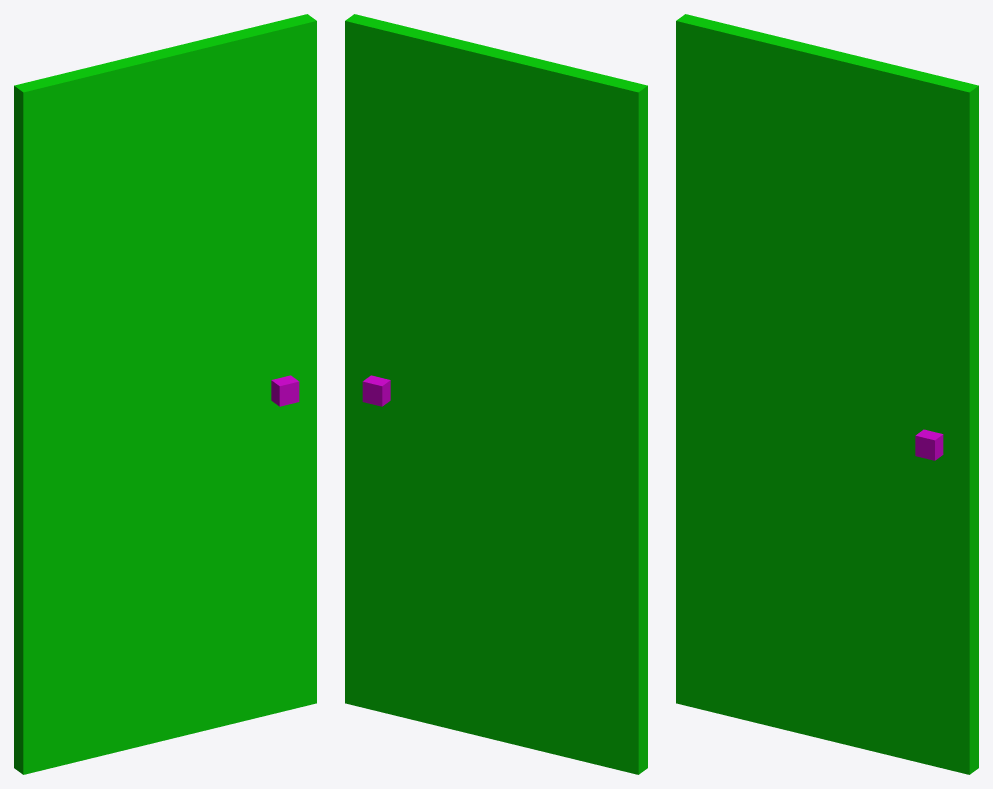
File: door_leaf.glb
The picture shows the model from 3 angles, left to right: view 1: azimuth 30°, elevation 25°; view 2: azimuth 150°, elevation 25°; view 3: azimuth 330°, elevation 25°; orthographic projection.
Visible parts, largest first — view 1: door_leaf; view 2: door_leaf; view 3: door_leaf.
Part boxes in pixels (box(x1,y1,x2,y2)): door_leaf: box(14, 14, 316, 774); door_leaf: box(345, 14, 647, 774); door_leaf: box(676, 14, 978, 774).
Bounding box in the file's own units: 0.9 × 2 × 0.14.
